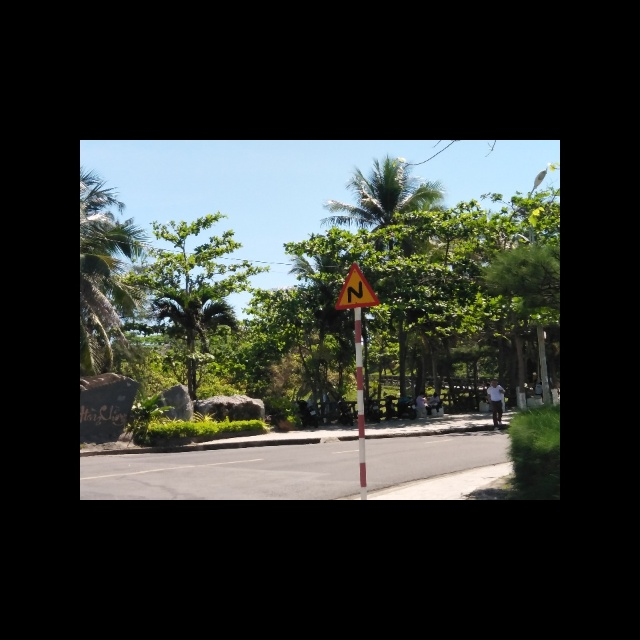Ngoặt nguy hiểm liên tiếp bên phải: (334, 263, 381, 311)
